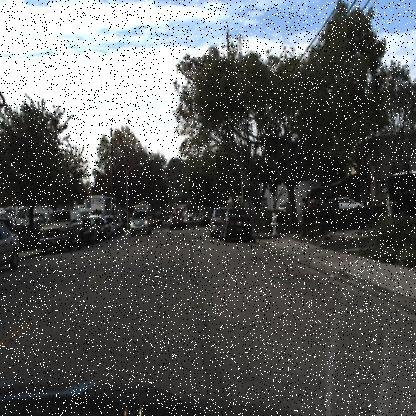car: (297, 176, 342, 236), (36, 206, 85, 259), (219, 198, 254, 249), (299, 187, 340, 219), (0, 218, 21, 274), (128, 204, 156, 244), (337, 186, 367, 215), (206, 206, 224, 246), (80, 214, 99, 245), (208, 204, 224, 240), (94, 216, 112, 245), (166, 206, 184, 232), (274, 195, 294, 218), (81, 213, 93, 246)
